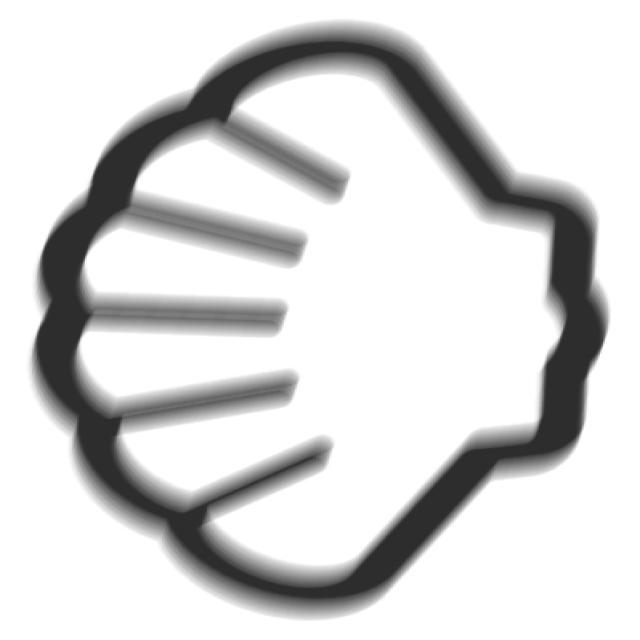shell: (15, 12, 622, 635)
